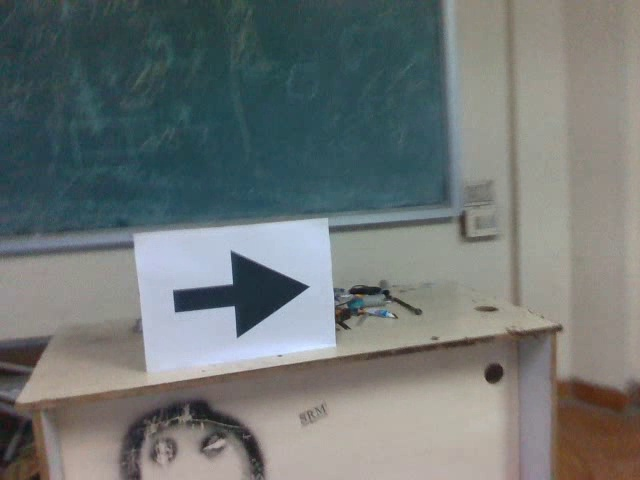Right: (160, 245, 319, 343)
